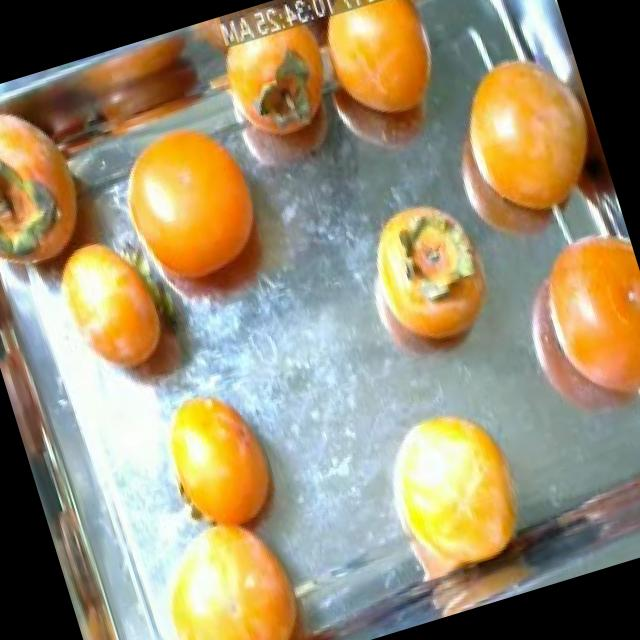Fruit: (403, 22, 625, 273), (96, 91, 295, 329), (356, 378, 558, 608), (338, 169, 524, 391), (477, 202, 640, 450), (285, 0, 481, 184), (125, 484, 333, 640), (140, 362, 300, 560)
